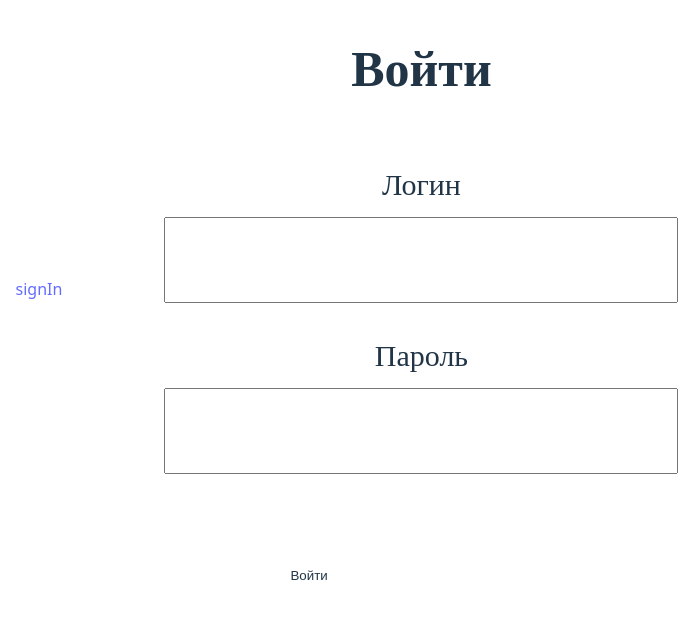
Test: fill form errors › login fill, password empty
The width and height of the screenshot is (695, 632).
Type "qwe" into the field with test id "login" at (421, 260), box [164, 216, 678, 302]
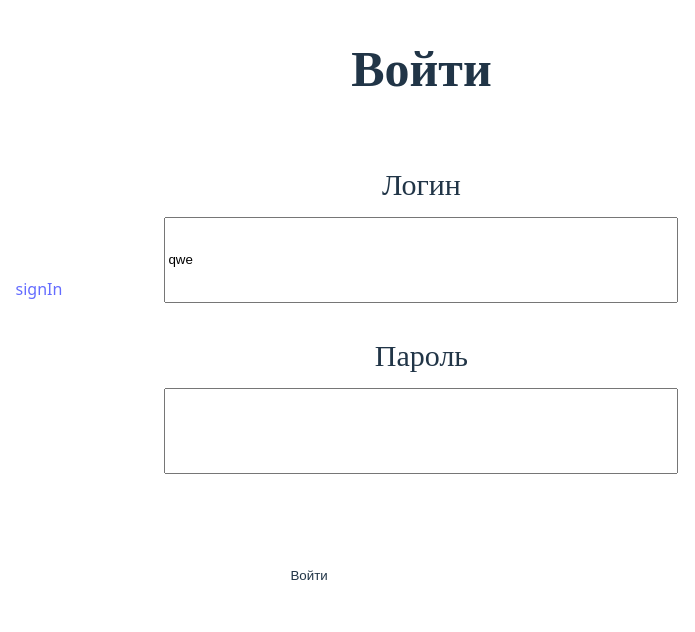
Submit the form from the button with test id "submit", box [164, 554, 454, 596]
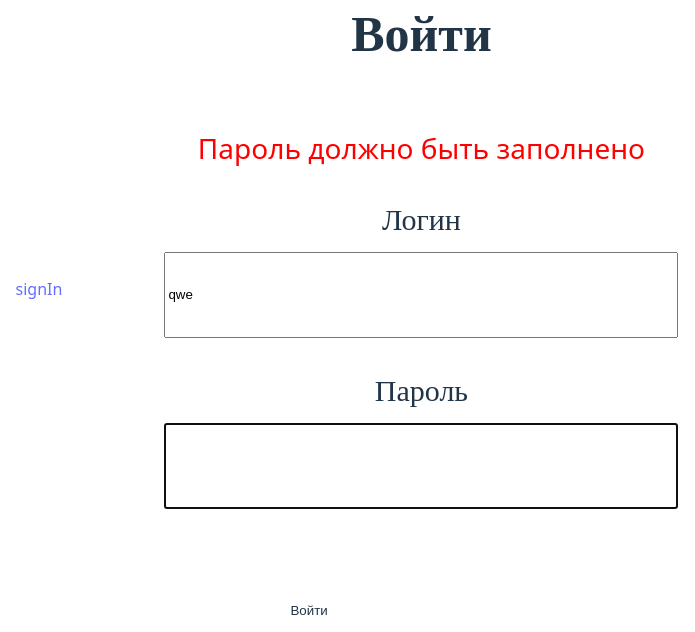
Expected: the text "Пароль должно быть заполнено" is shown, [164, 126, 678, 168]
